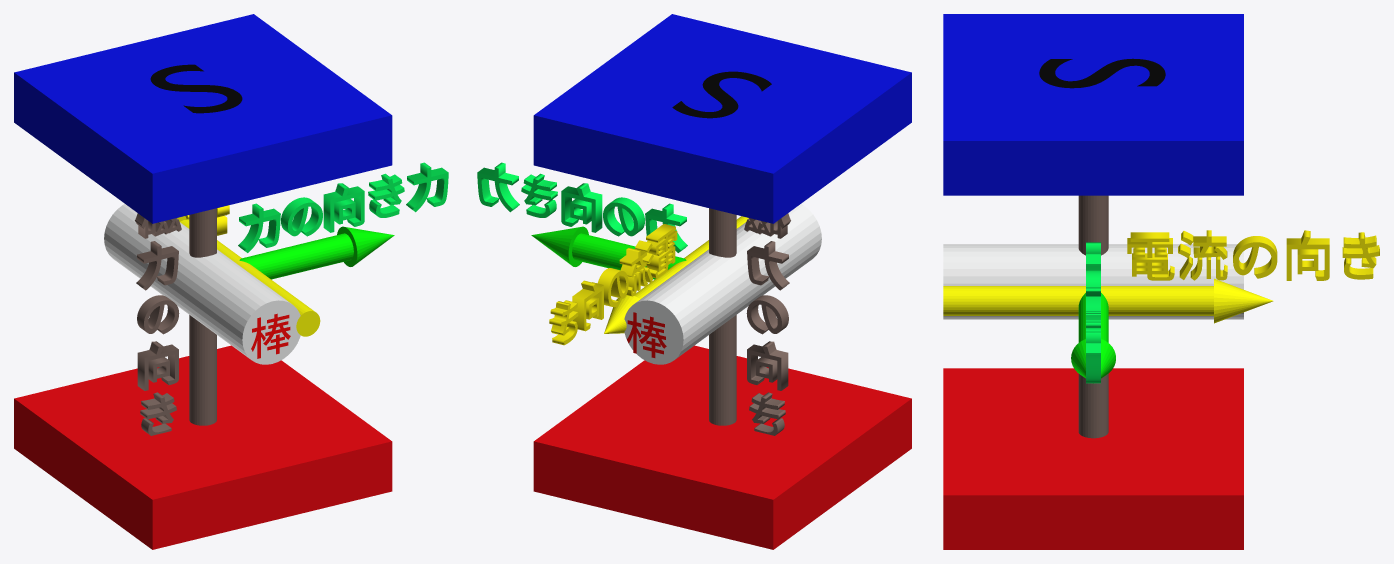
The model's file is Fleming's_left-hand_rule.glb.
The picture shows the model from 3 angles, left to right: view 1: azimuth 30°, elevation 25°; view 2: azimuth 150°, elevation 25°; view 3: azimuth 270°, elevation 25°; orthographic projection. The views are drawn at different scales.
Visible parts, largest first — view 1: S極磁石, N極磁石, 導体棒, 力の向き, 磁力の向き, 磁力, 力, S極, 電流, 力_矢印, 棒; view 2: S極磁石, N極磁石, 導体棒, 力の向き, 磁力の向き, 電流の向き, 磁力, 力, S極, 力_矢印, 棒.001, 電流 (+1 smaller); view 3: S極磁石, N極磁石, 導体棒, 電流の向き, 電流, 磁力, 力の向き, S極, 電流_矢印, 力_矢印, 力.
Boxes of the visible parts, <box> form: S極磁石: <box>14,14,392,223</box>; N極磁石: <box>14,345,392,549</box>; 導体棒: <box>104,204,300,364</box>; 力の向き: <box>238,162,448,252</box>; 磁力の向き: <box>135,213,181,435</box>; 磁力: <box>189,208,216,425</box>; 力: <box>239,233,353,279</box>; S極: <box>150,64,242,113</box>; 電流: <box>180,220,320,336</box>; 力_矢印: <box>337,226,394,266</box>; 棒: <box>251,313,290,358</box>; S極磁石: <box>533,14,911,223</box>; N極磁石: <box>533,345,911,549</box>; 導体棒: <box>624,204,821,364</box>; 力の向き: <box>477,162,687,252</box>; 磁力の向き: <box>744,213,790,435</box>; 電流の向き: <box>549,224,677,345</box>; 磁力: <box>709,208,736,425</box>; 力: <box>572,233,686,279</box>; S極: <box>672,71,771,118</box>; 力_矢印: <box>531,226,588,266</box>; 棒.001: <box>627,312,666,357</box>; 電流: <box>634,216,748,299</box>; S極磁石: <box>943,14,1243,195</box>; N極磁石: <box>943,368,1243,549</box>; 導体棒: <box>943,244,1243,319</box>; 電流の向き: <box>1127,230,1379,280</box>; 電流: <box>943,286,1213,315</box>; 磁力: <box>1078,195,1108,438</box>; 力の向き: <box>1086,242,1100,383</box>; S極: <box>1039,58,1165,88</box>; 電流_矢印: <box>1214,278,1273,323</box>; 力_矢印: <box>1071,339,1115,383</box>; 力: <box>1078,293,1108,342</box>.
Size of the model in its own units: 3.02 by 3.03 by 2.93.
